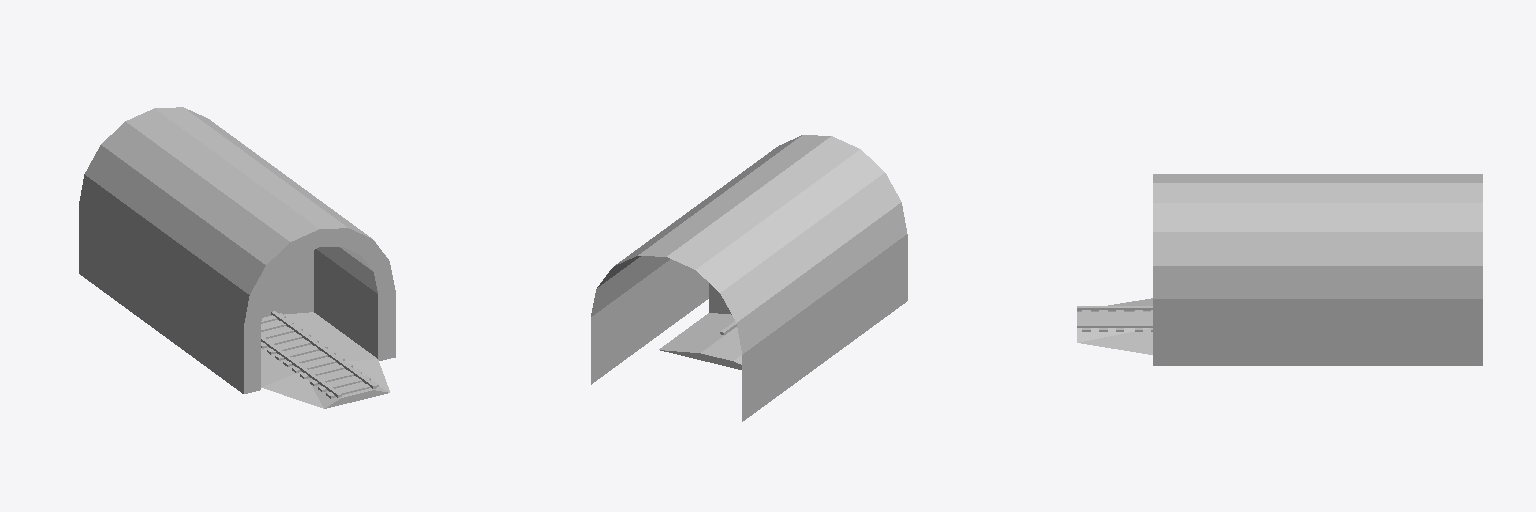
File: SM_Env_Track_Tunnel_01.obj
3 views of the same model, side by side, from view 1: azimuth 30°, elevation 25°; view 2: azimuth 150°, elevation 25°; view 3: azimuth 270°, elevation 25° (orthographic).
Visible parts, largest first — view 1: SM_Env_Track_Tunnel_01:Mesh; view 2: SM_Env_Track_Tunnel_01:Mesh; view 3: SM_Env_Track_Tunnel_01:Mesh.
Boxes of the visible parts, box(x1,y1,x2,y2) form: SM_Env_Track_Tunnel_01:Mesh: box(79, 107, 395, 408); SM_Env_Track_Tunnel_01:Mesh: box(591, 135, 907, 421); SM_Env_Track_Tunnel_01:Mesh: box(1077, 174, 1482, 365).
Bounding box in the file's own units: 11.46 × 10.6 × 26.58.